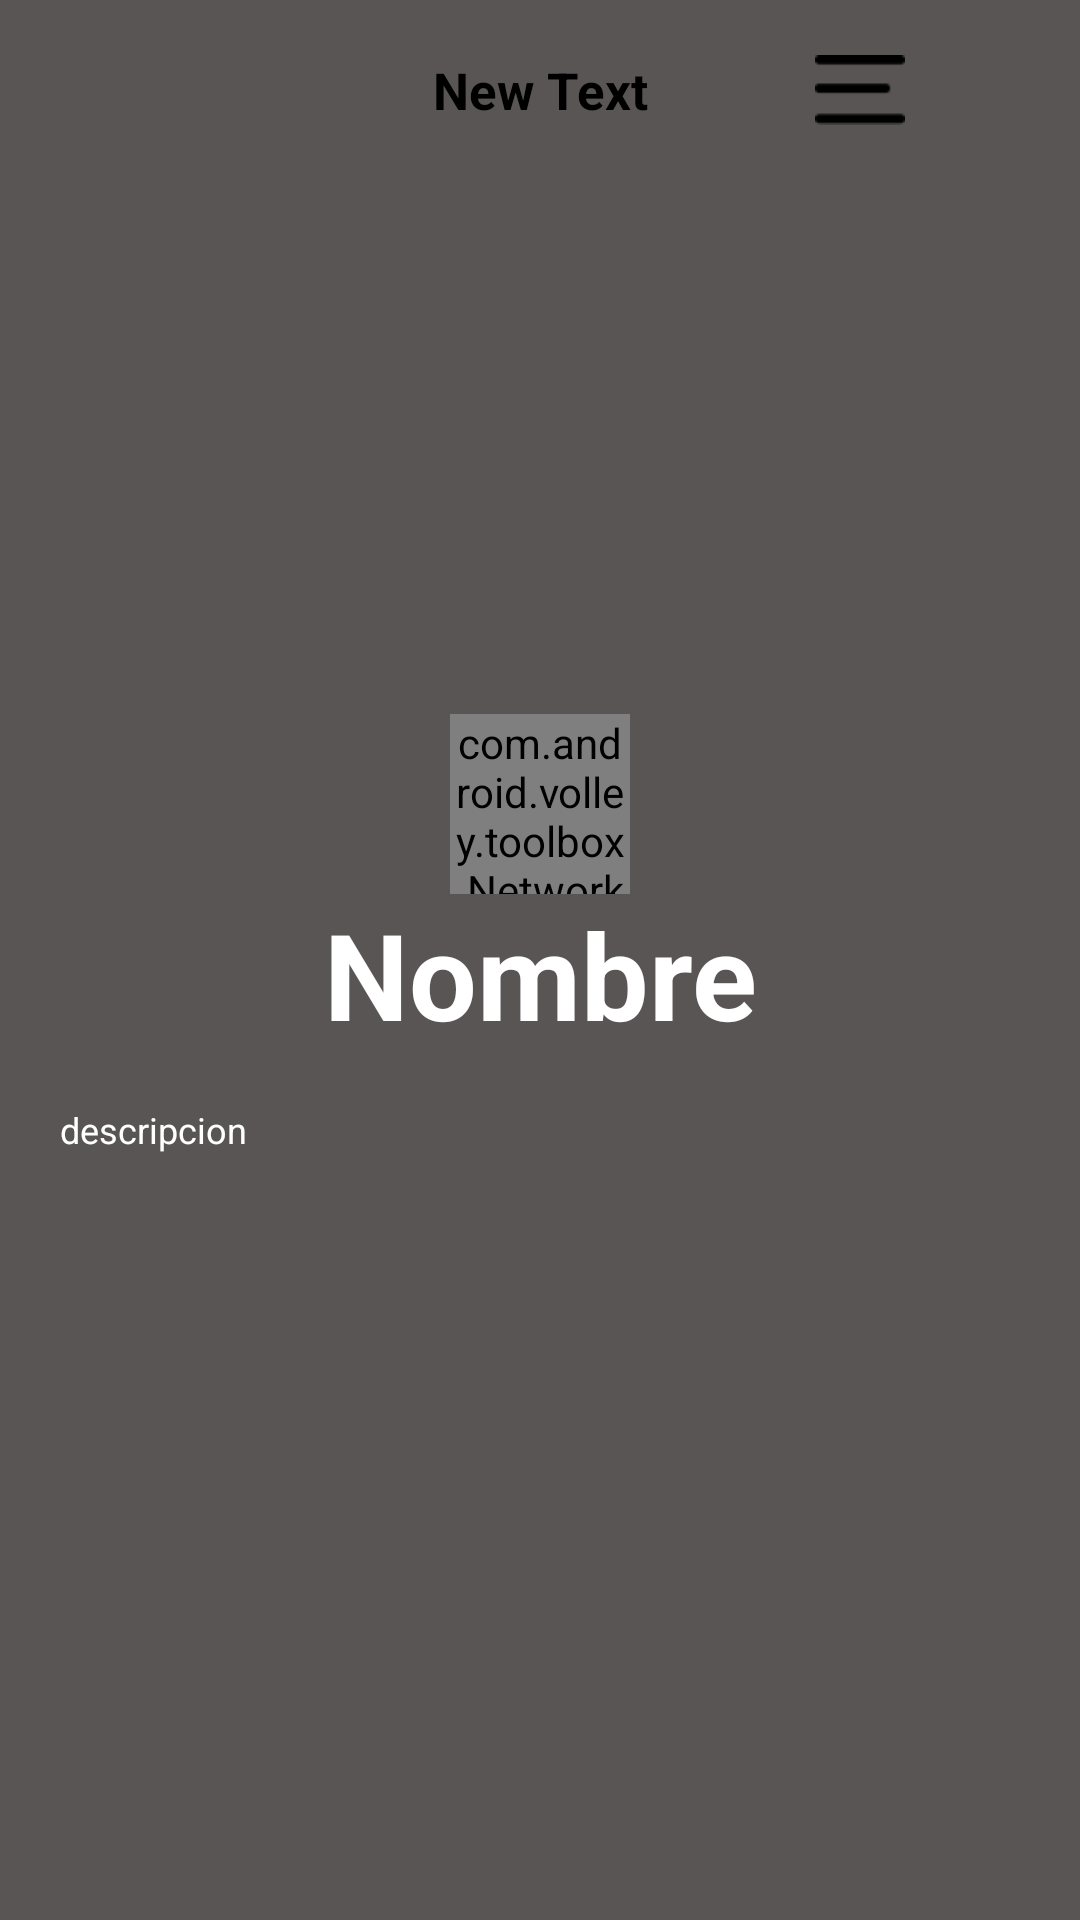

Screen size 1080x1920. Icon name, then its center in pixels as [x,y]:
menu: [860,89]
